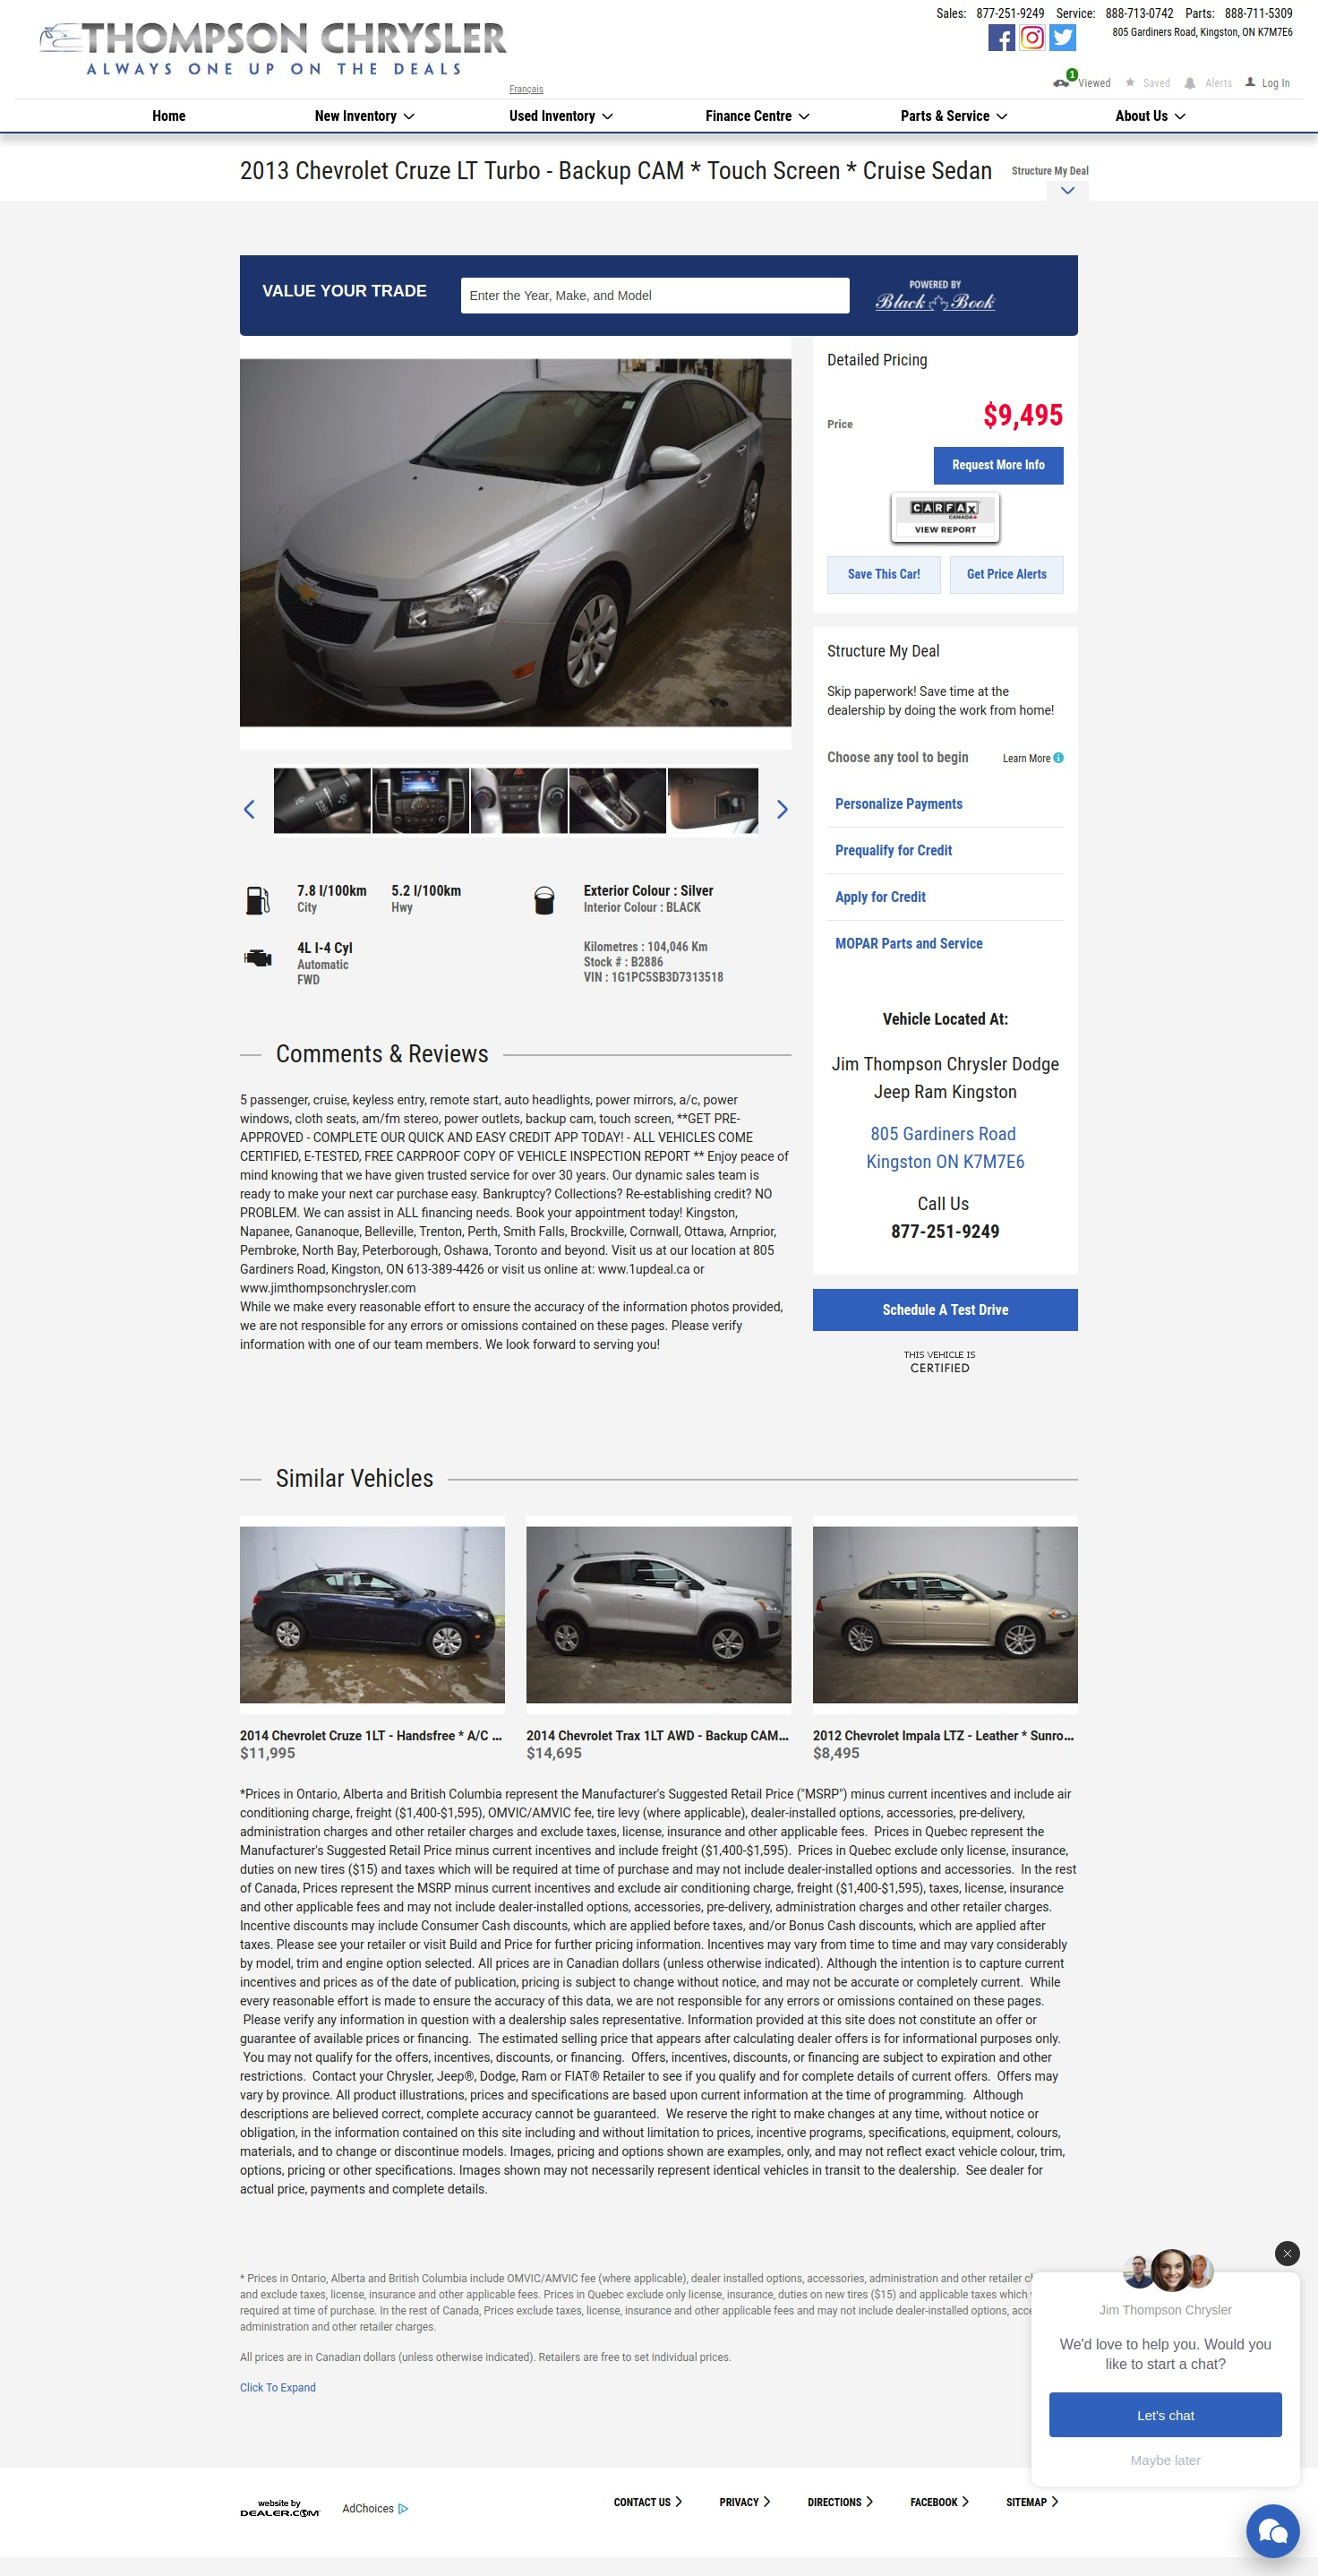car: (777, 799, 788, 821)
